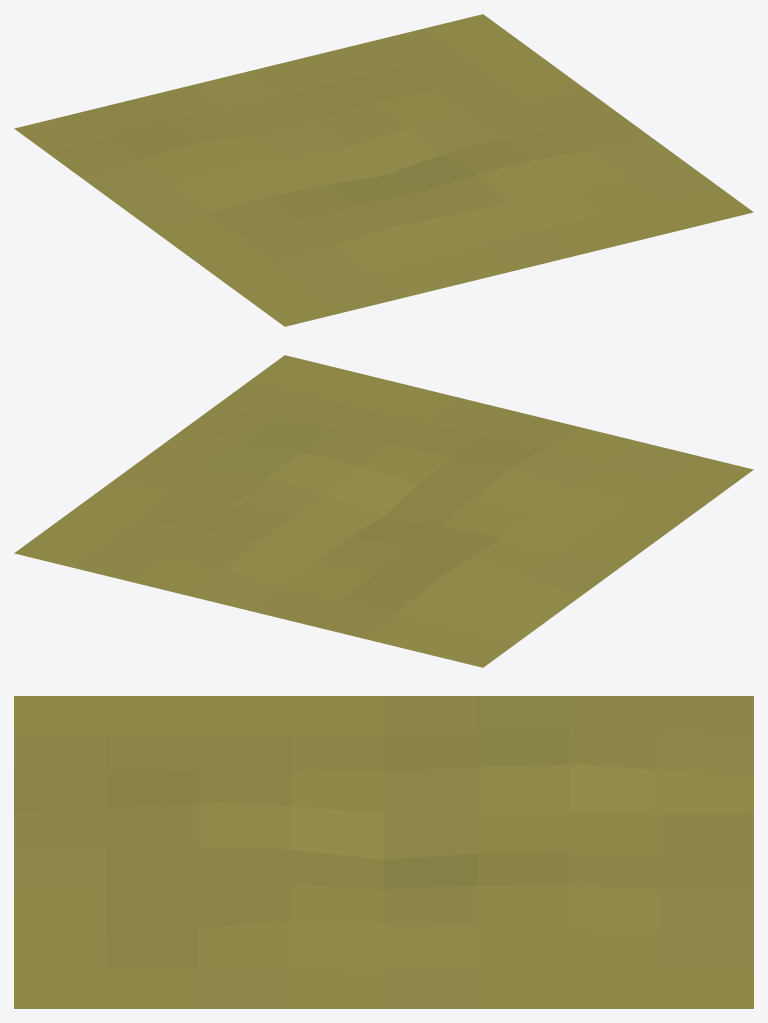
Rendered from Terrain_9_Yellow.fbx.
3 renders of one model, top to bottom at view 1: azimuth 30°, elevation 25°; view 2: azimuth 150°, elevation 25°; view 3: azimuth 270°, elevation 25°, orthographic. The views are drawn at different scales.
Visible parts, largest first — view 1: Terrain_9_Yellow; view 2: Terrain_9_Yellow; view 3: Terrain_9_Yellow.
Boxes of the visible parts, box(x1,y1,x2,y2) form: Terrain_9_Yellow: box(14, 14, 753, 326); Terrain_9_Yellow: box(14, 355, 753, 667); Terrain_9_Yellow: box(14, 696, 753, 1008).
Size of the model in its own units: 4000 by 106 by 4000.
